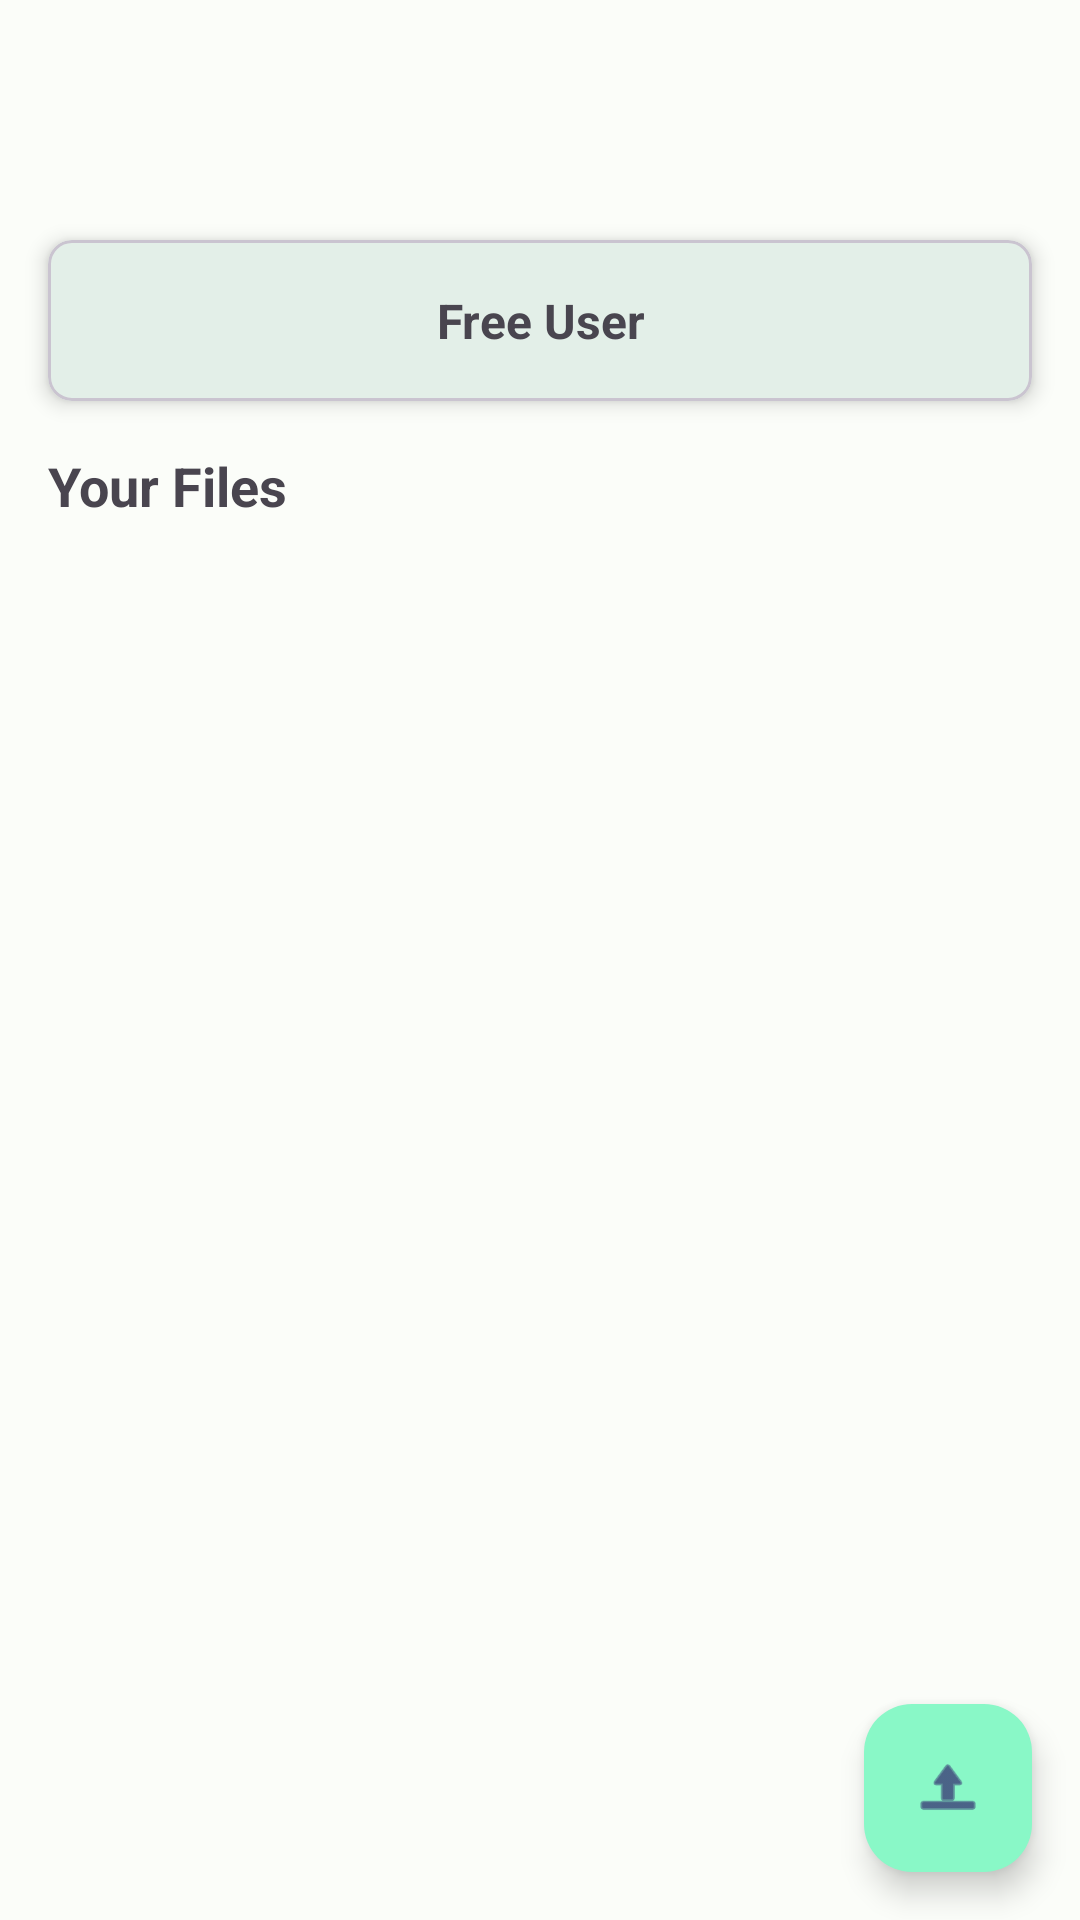

Icon bounding boxes for this 1080*1920 phone screenshot, format (x1, y1, x2, y2):
Upload Files: (864, 1704, 1032, 1872)
